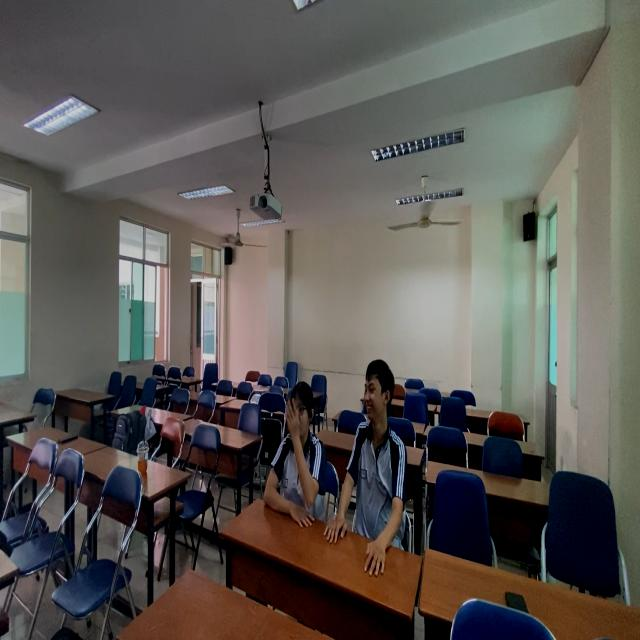raise_hand: (263, 377, 326, 539)
